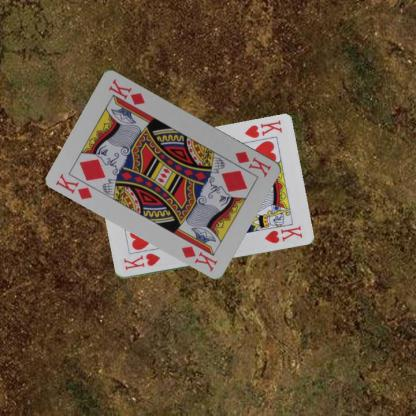Kd: (53, 171, 94, 201), (233, 148, 273, 178)
Kh: (242, 117, 283, 140), (121, 251, 161, 272)
